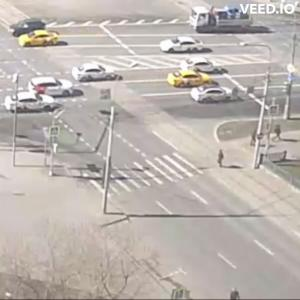car: (192, 6, 248, 31), (4, 93, 64, 116), (30, 77, 76, 99), (73, 63, 121, 84), (191, 84, 235, 106), (162, 37, 209, 55), (167, 69, 209, 89), (19, 30, 63, 48), (12, 19, 50, 38), (186, 58, 227, 75)
